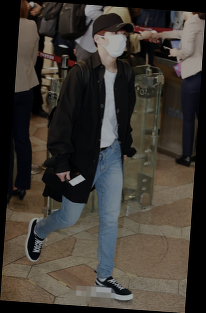with_mask: (104, 30, 127, 60)
